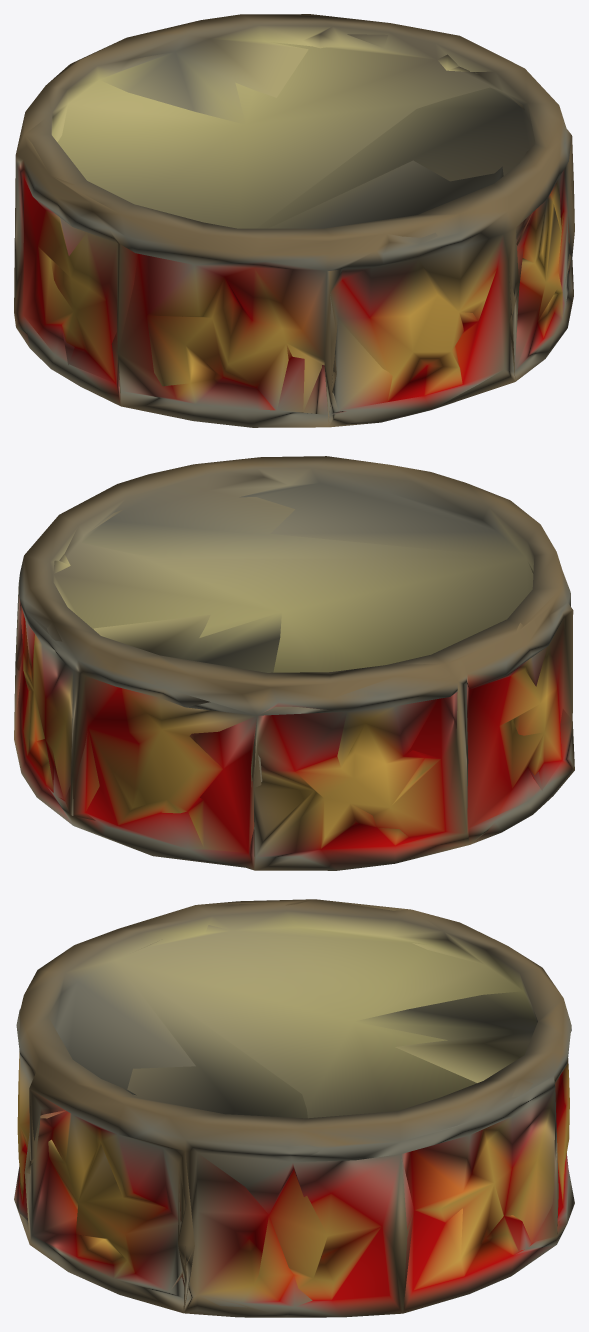
Rendered from gen3d-circus-drum-lod1.glb.
3 views of the same model, one above another, from view 1: azimuth 30°, elevation 25°; view 2: azimuth 150°, elevation 25°; view 3: azimuth 270°, elevation 25° (orthographic).
Visible parts, largest first — view 1: part_0; view 2: part_0; view 3: part_0.
Boxes of the visible parts, box(x1,y1,x2,y2) form: part_0: box(14, 14, 574, 427); part_0: box(14, 456, 574, 870); part_0: box(14, 899, 574, 1317).
Bounding box in the file's own units: 2.69 × 0.9981 × 2.69.
